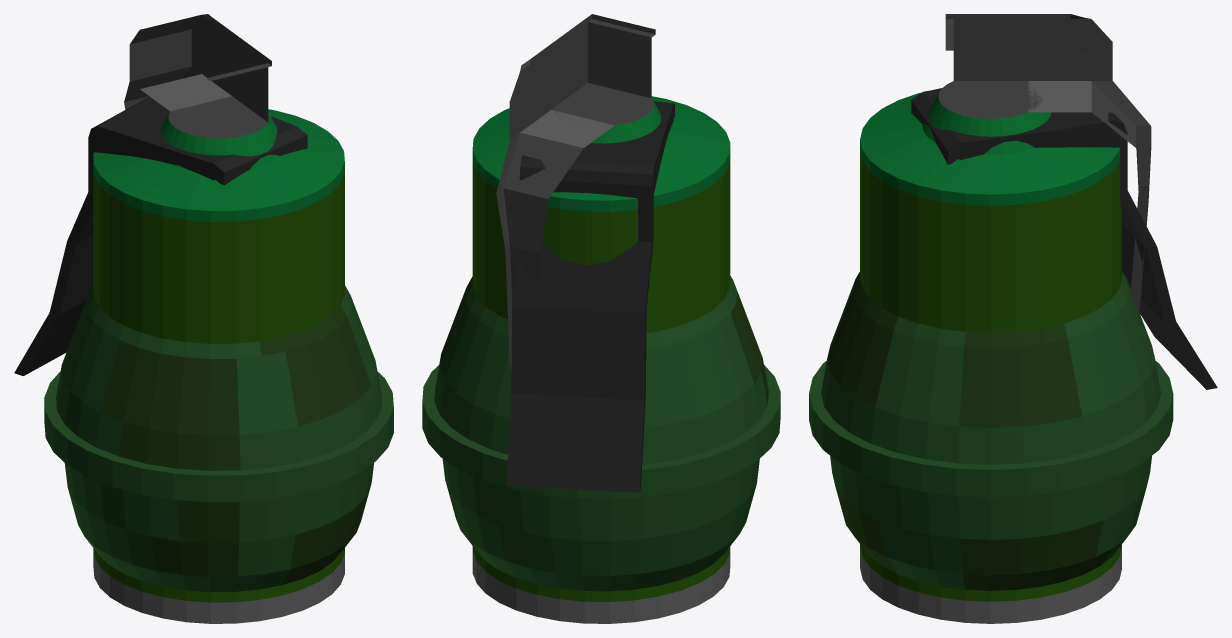
Rendered from Bomba2.fbx.
3 renders of one model, left to right at view 1: azimuth 30°, elevation 25°; view 2: azimuth 150°, elevation 25°; view 3: azimuth 270°, elevation 25°, orthographic. The views are drawn at different scales.
Visible parts, largest first — view 1: Cylinder, Cylinder.001; view 2: Cylinder, Cylinder.001; view 3: Cylinder, Cylinder.001.
Part boxes in pixels (box(x1,y1,x2,y2)): Cylinder: box(14, 96, 393, 592); Cylinder.001: box(93, 14, 344, 623); Cylinder: box(422, 101, 780, 591); Cylinder.001: box(472, 14, 730, 623); Cylinder: box(809, 88, 1217, 590); Cylinder.001: box(860, 14, 1151, 623).
Size of the model in its own units: 407 by 685 by 457.
